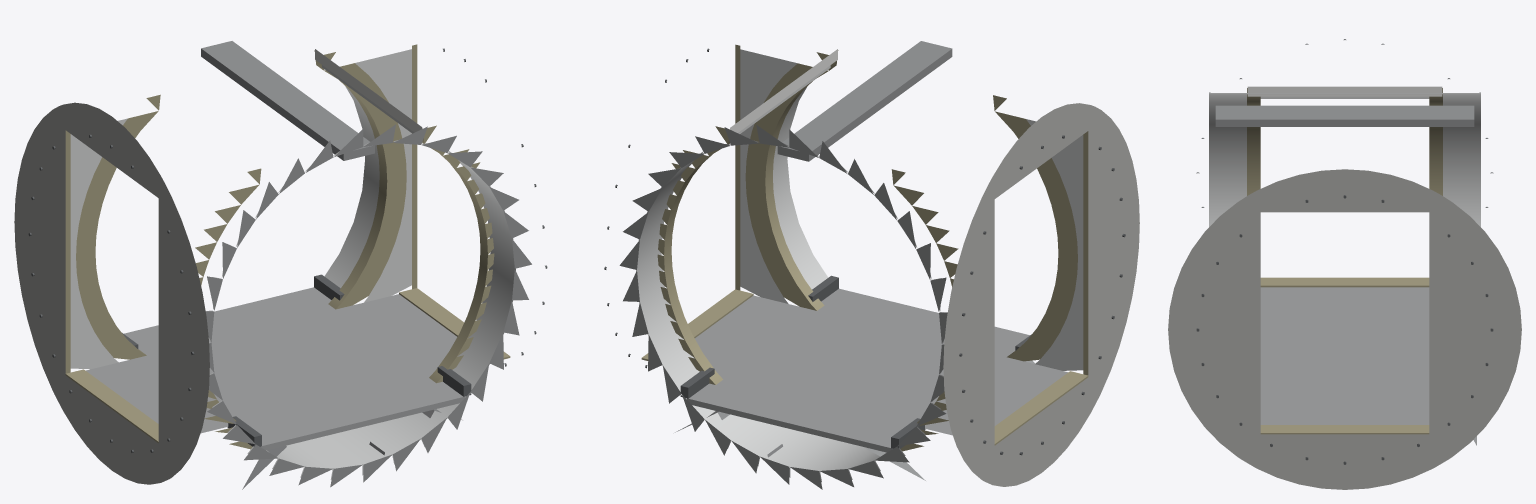
The model's file is habSegJLR_steel_meshin.glb.
3 renders of one model, left to right at view 1: azimuth 30°, elevation 25°; view 2: azimuth 150°, elevation 25°; view 3: azimuth 270°, elevation 25°, orthographic. The views are drawn at different scales.
Visible parts, largest first — view 1: habSegJLR_steel_meshin; view 2: habSegJLR_steel_meshin; view 3: habSegJLR_steel_meshin.
Part boxes in pixels (x1,y1,x2,y2): habSegJLR_steel_meshin: [14, 41, 547, 489]; habSegJLR_steel_meshin: [604, 41, 1139, 489]; habSegJLR_steel_meshin: [1168, 39, 1521, 489].
Bounding box in the file's own units: 2.72 × 2.6 × 2.6.
